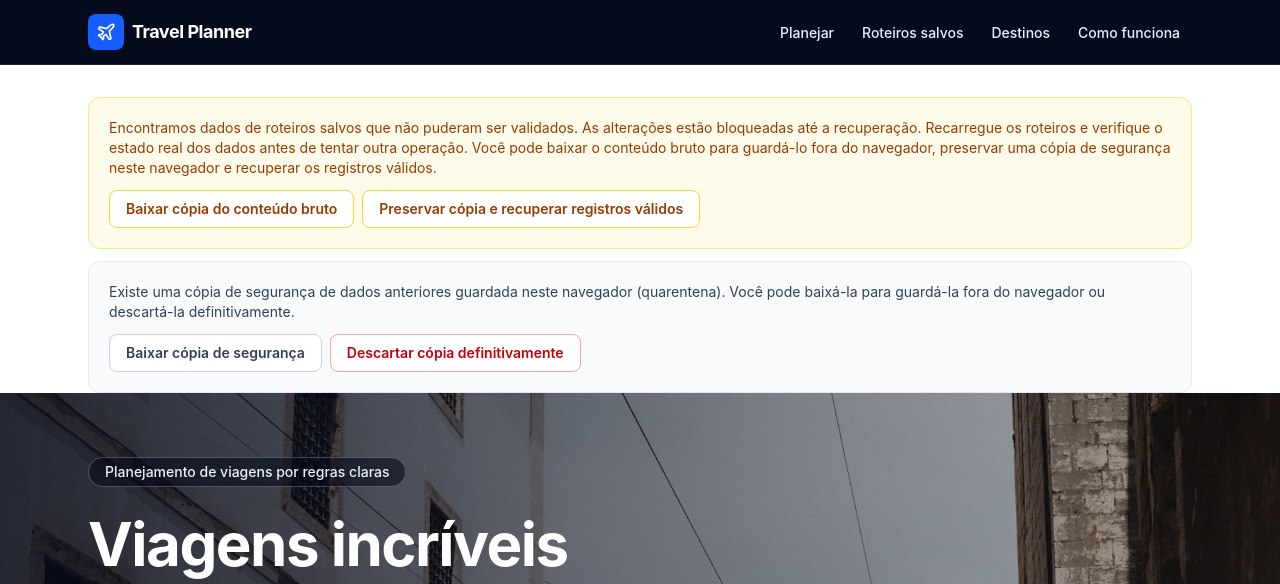
Test: HomePage — interações de persistência (P3) › recuperação bloqueada com quarentena ocupada por conteúdo diferente: ambas as chaves intactas
Click the button "Preservar cópia e recuperar registros válidos" at (531, 209), box [362, 190, 700, 228]
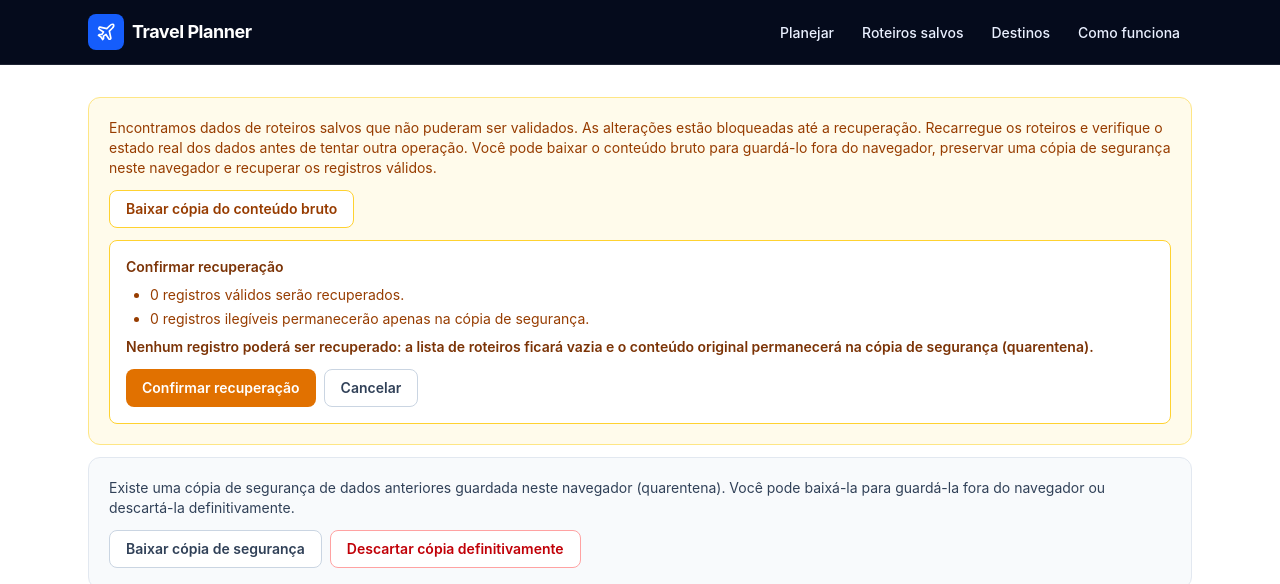
Click the button "Confirmar recuperação" at (221, 388), box [126, 369, 316, 407]
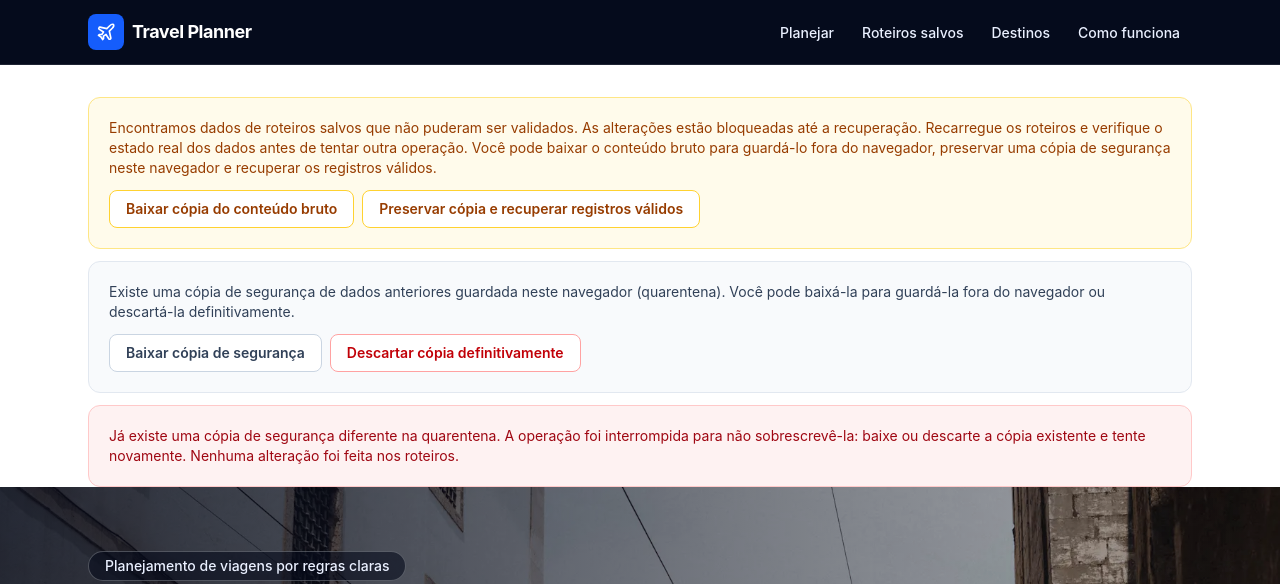
Now the text "Já existe uma cópia de segurança diferente na quarentena" is shown, box [109, 427, 1146, 464]
